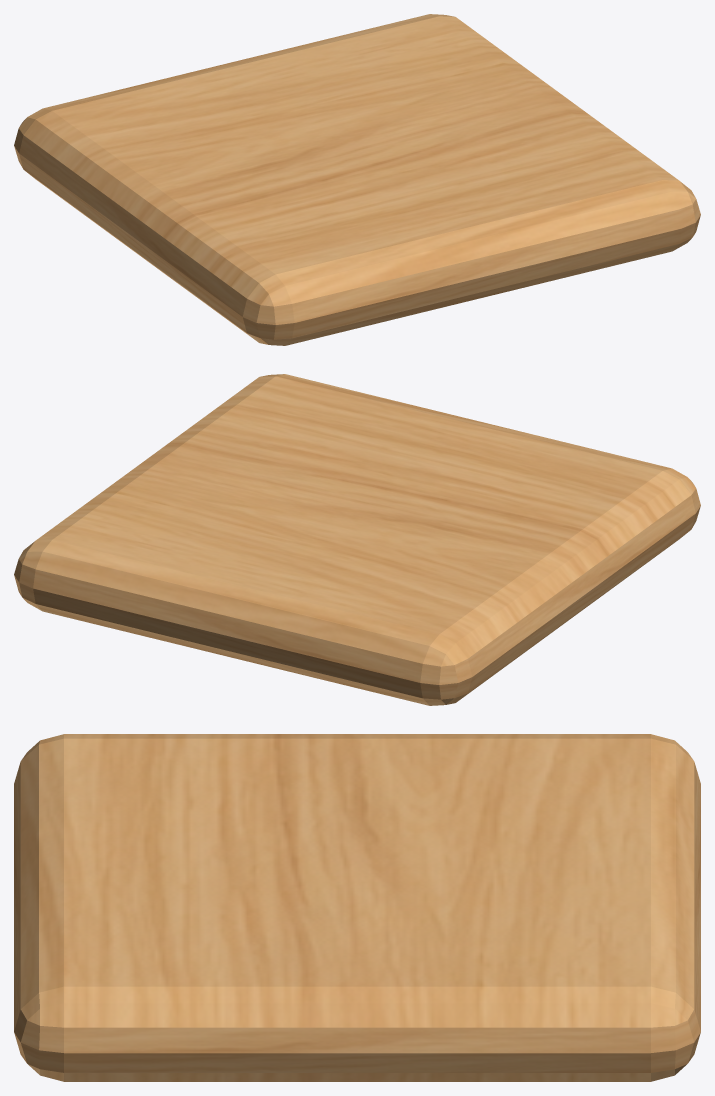
The model's file is switch_base.glb.
3 renders of one model, top to bottom at view 1: azimuth 30°, elevation 25°; view 2: azimuth 150°, elevation 25°; view 3: azimuth 270°, elevation 25°, orthographic. The views are drawn at different scales.
Parts seen in each view (by area): view 1: switch_base; view 2: switch_base; view 3: switch_base.
Part boxes in pixels (x1,y1,x2,y2): switch_base: (14,14,700,345); switch_base: (14,374,700,705); switch_base: (14,734,700,1081).
Bounding box in the file's own units: 0.48 × 0.07 × 0.48.
1 material, 1 textured.
